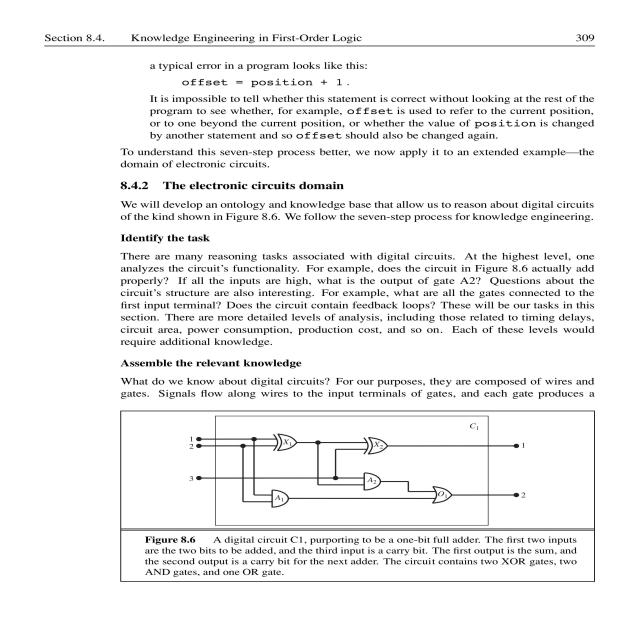diagram: (104, 406, 640, 640)
